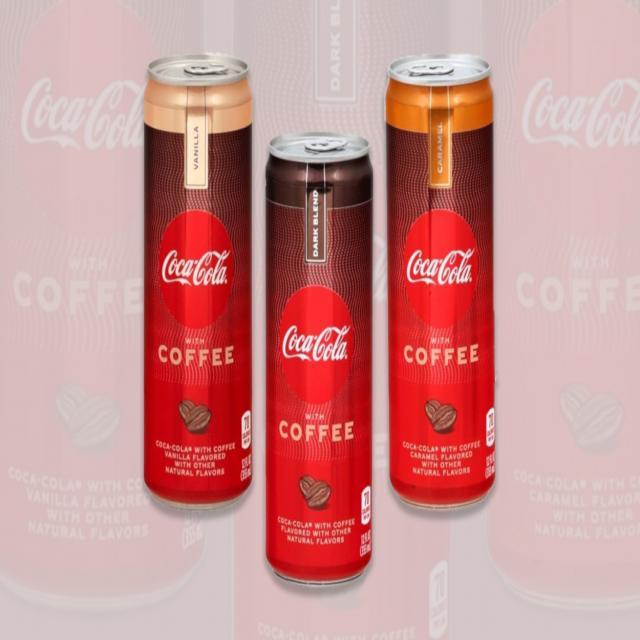Coke: (381, 53, 499, 517), (142, 52, 256, 514), (265, 130, 376, 590)
